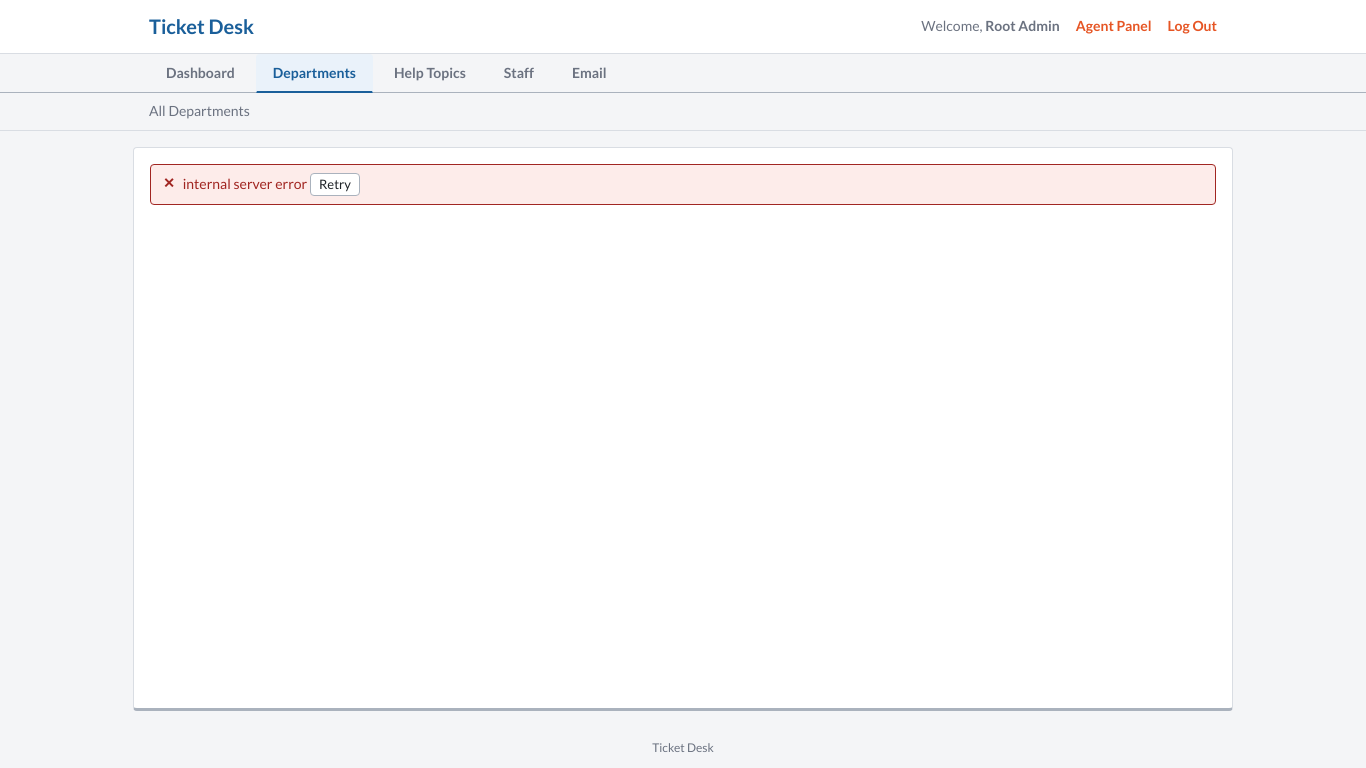
Test: a reference-data failure offers Retry, which loads the form
Step 1. Click the button "Retry" → click(335, 184), box [310,173,360,196]
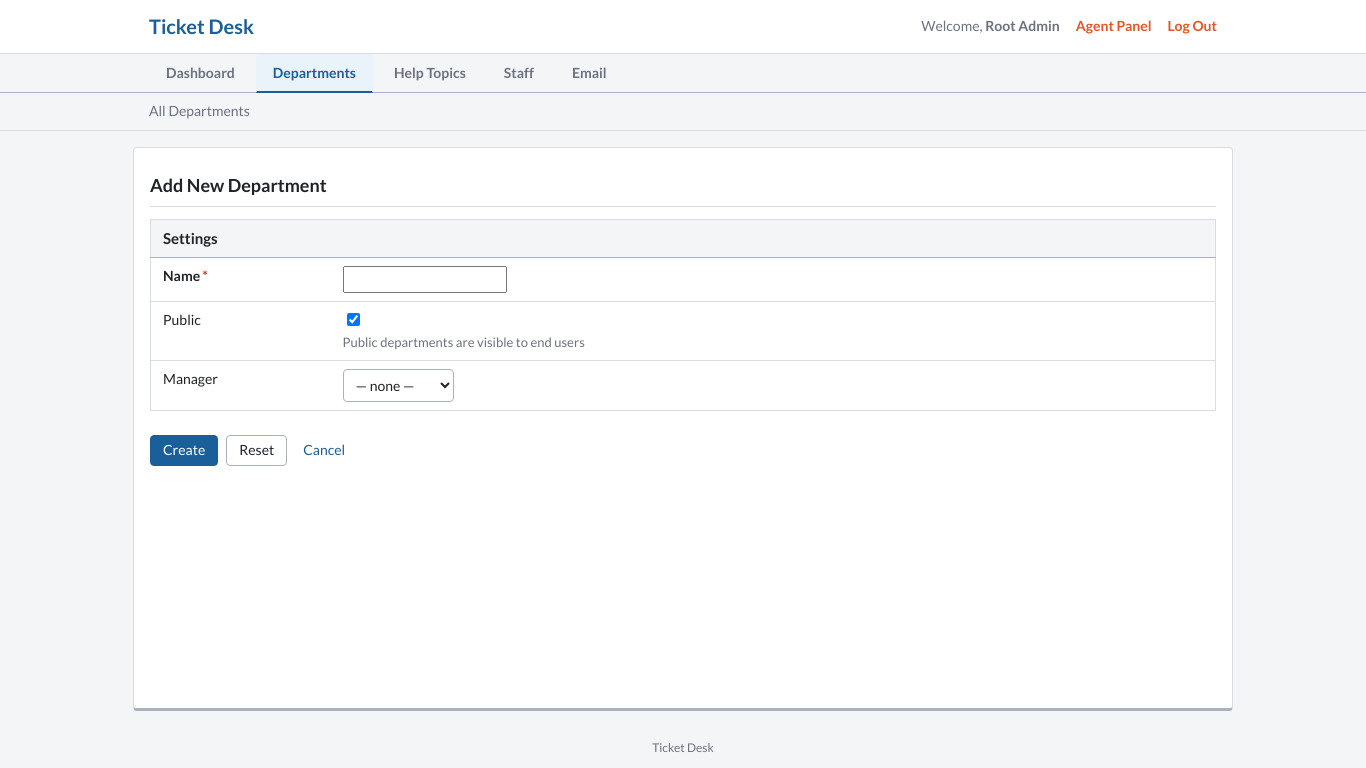
Expected: the heading "Add New Department" is shown, [150,172,327,198]
